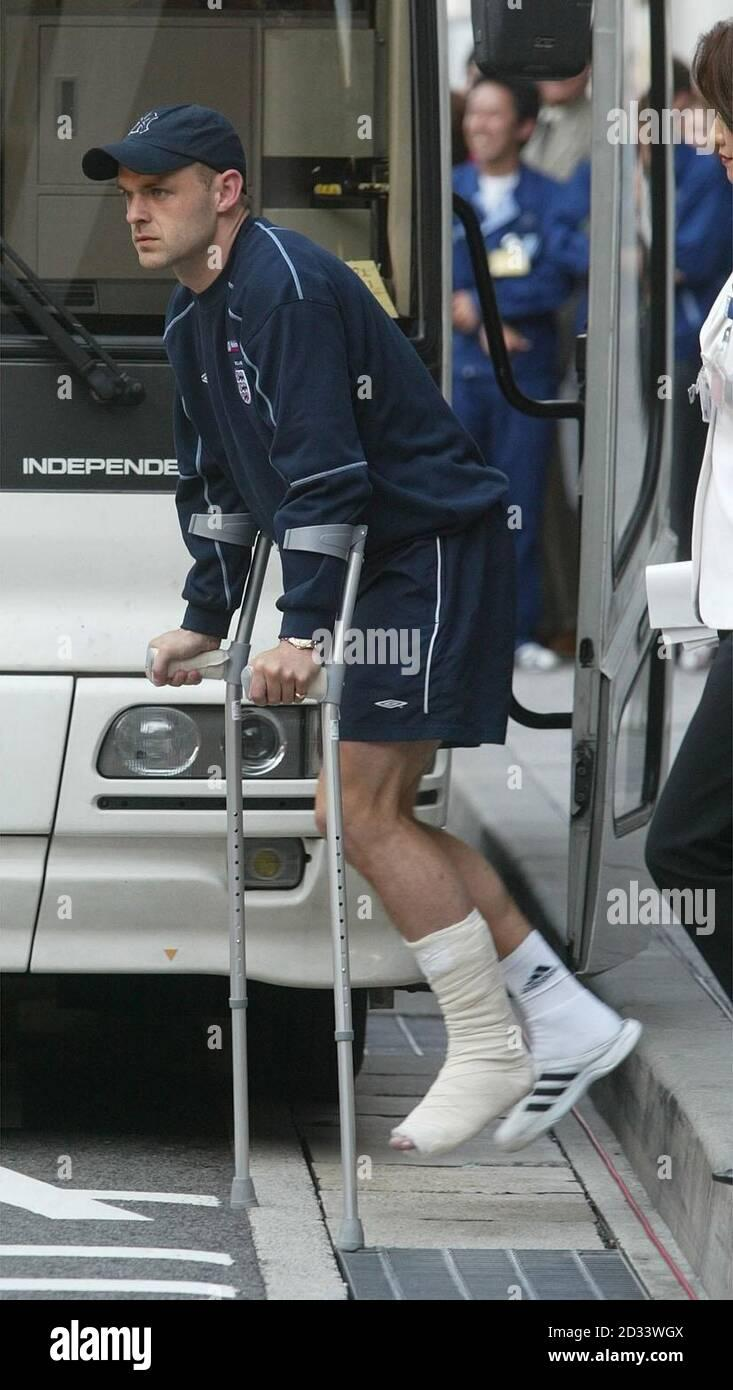crutches: (83, 101, 643, 1253)
